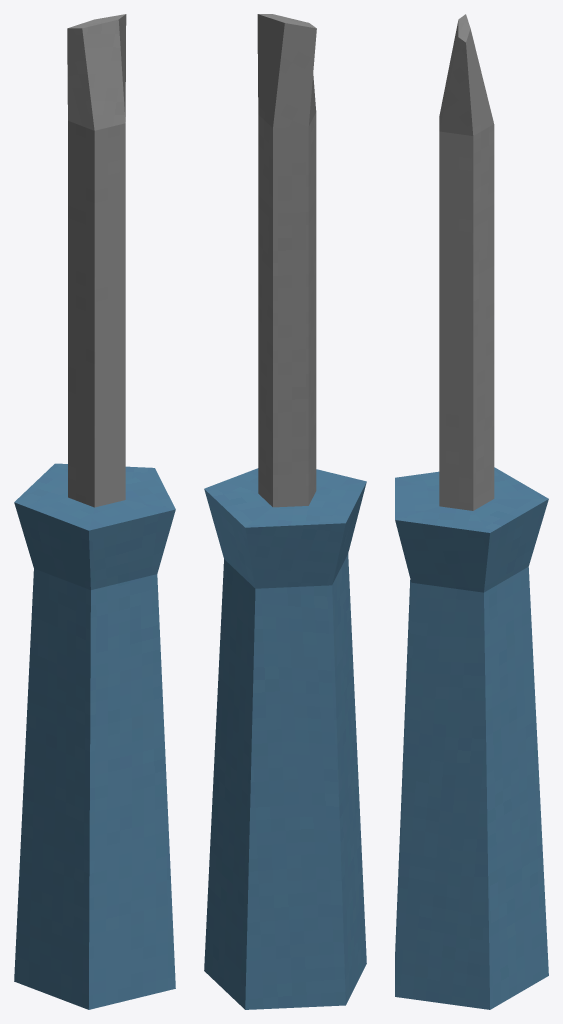
The model's file is screwdriver.fbx.
3 views of the same model, side by side, from view 1: azimuth 30°, elevation 25°; view 2: azimuth 150°, elevation 25°; view 3: azimuth 270°, elevation 25° (orthographic).
Visible parts, largest first — view 1: Cylinder; view 2: Cylinder; view 3: Cylinder.
Part boxes in pixels (x1,y1,x2,y2): Cylinder: [14, 14, 175, 1009]; Cylinder: [204, 14, 366, 1009]; Cylinder: [395, 14, 548, 1009].
Bounding box in the file's own units: 11.98 × 77.38 × 11.39.
